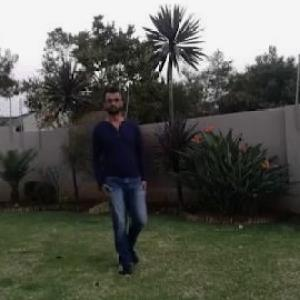follow: (99, 95, 149, 264)
